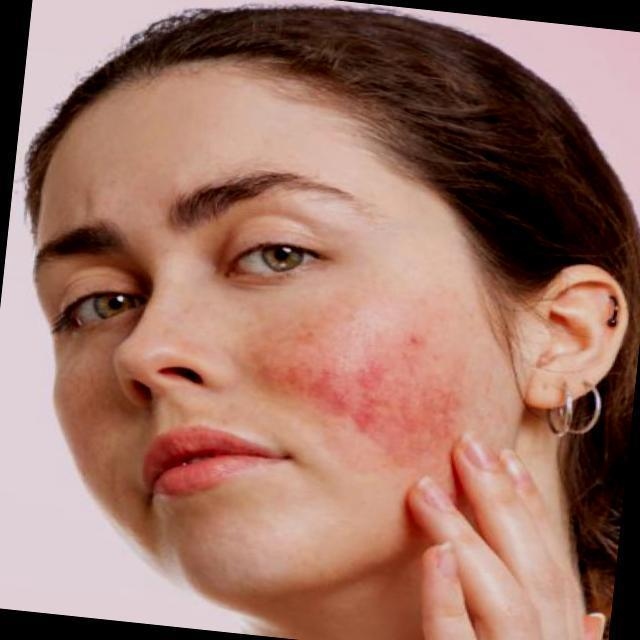skinredness: (224, 288, 487, 488)
